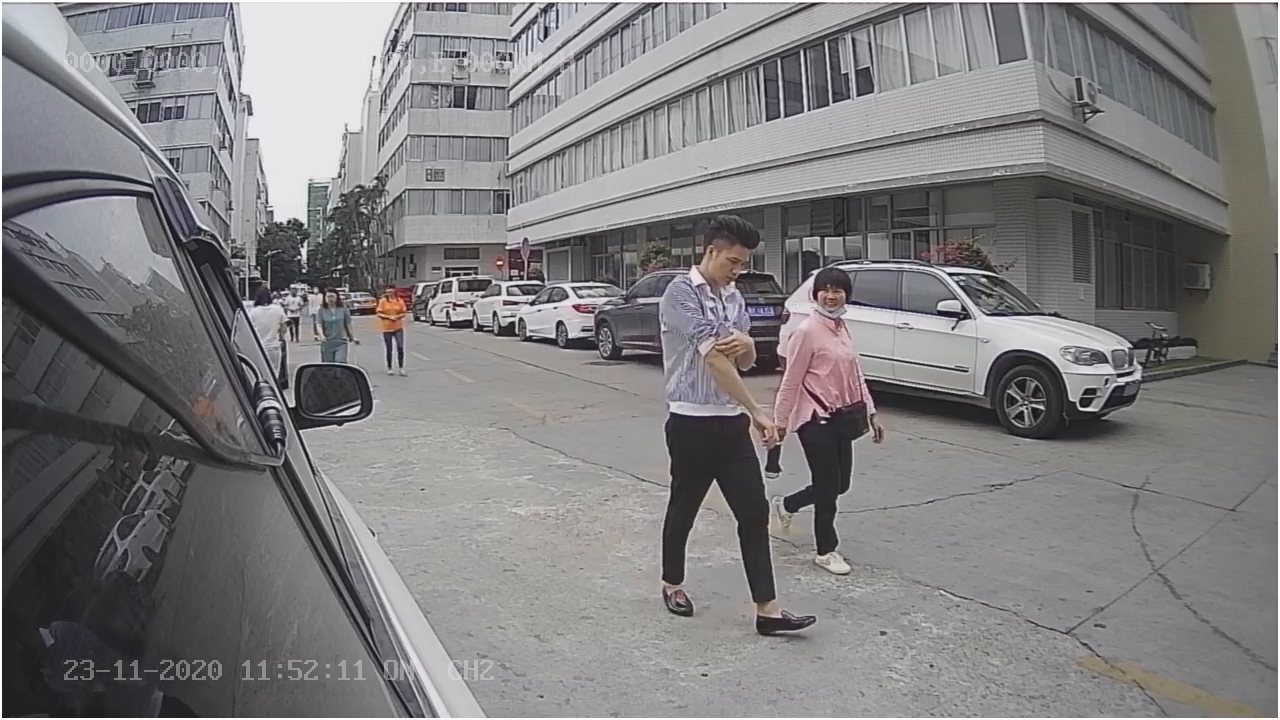person: (651, 202, 820, 632)
